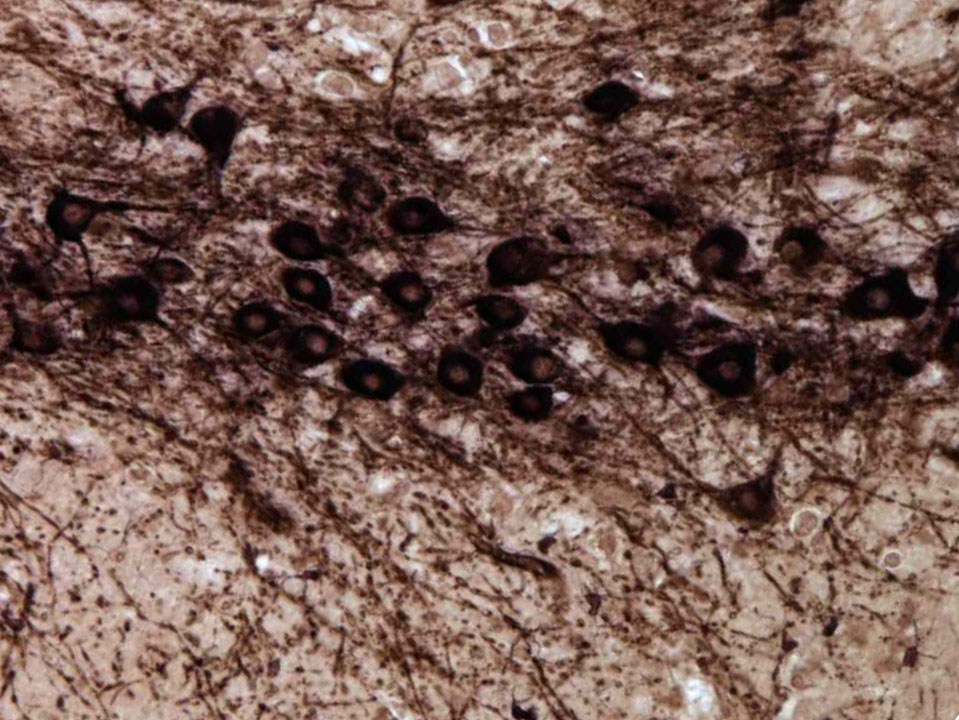neuron: (47, 194, 94, 235), (285, 267, 332, 308), (232, 297, 279, 338), (291, 325, 338, 366), (105, 283, 152, 324), (392, 201, 439, 242), (383, 274, 430, 315), (350, 362, 397, 403), (438, 354, 485, 395), (514, 342, 561, 383), (610, 328, 657, 369), (707, 349, 754, 390), (475, 291, 522, 332), (691, 233, 738, 274), (776, 228, 823, 269), (854, 276, 901, 317), (730, 480, 777, 521), (5, 319, 52, 360)
